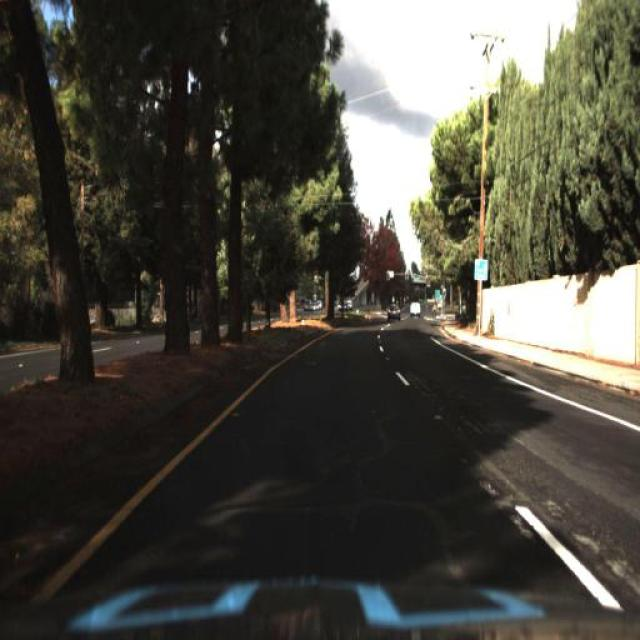car: (404, 292, 422, 318)
trafficLight-Green: (438, 280, 447, 294)
